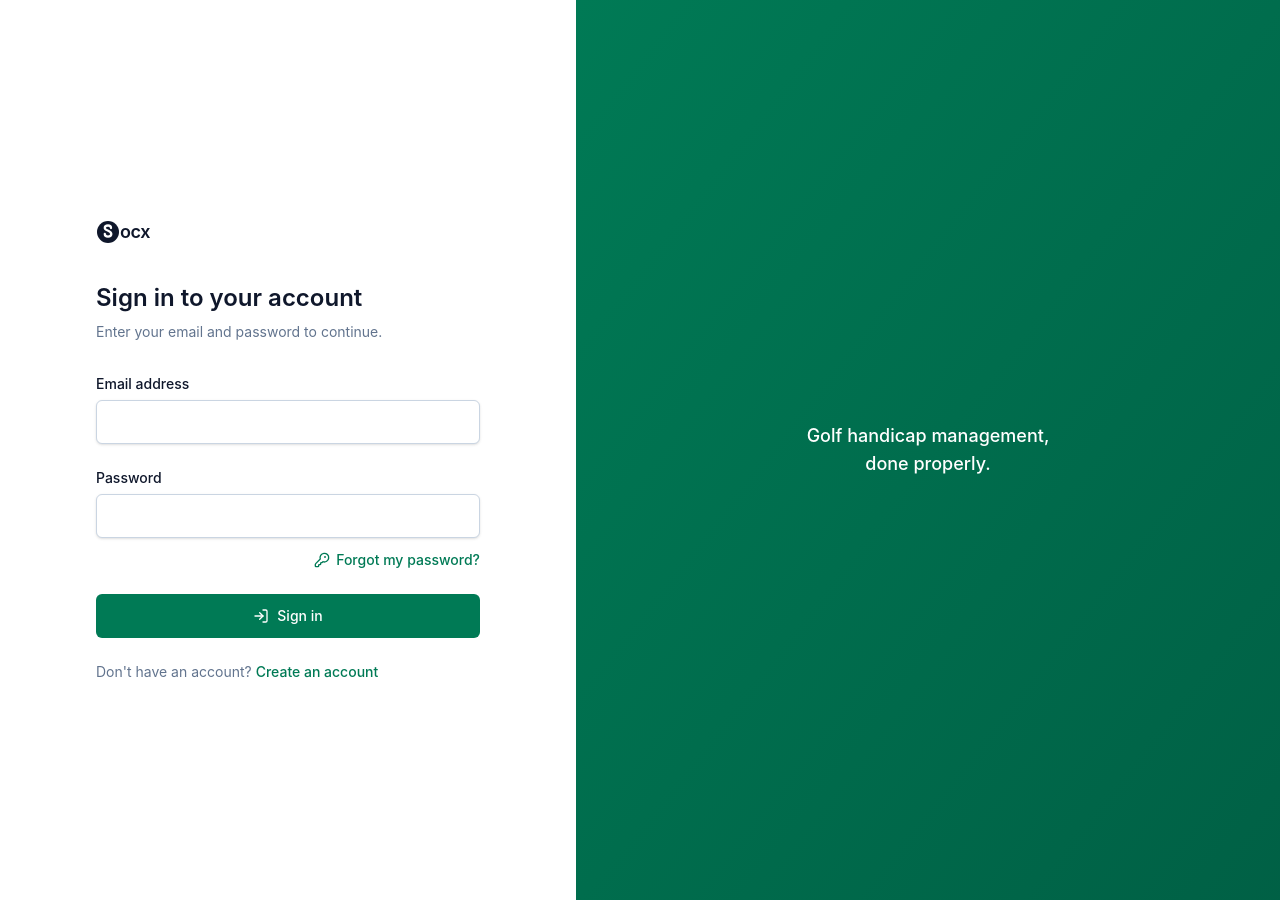
Test: LoginPage › shows a working Create an account link when self-registration is on (ghs#105)
The image size is (1280, 900).
Click the link "Create an account".
click(317, 672)  # box [256, 663, 378, 680]
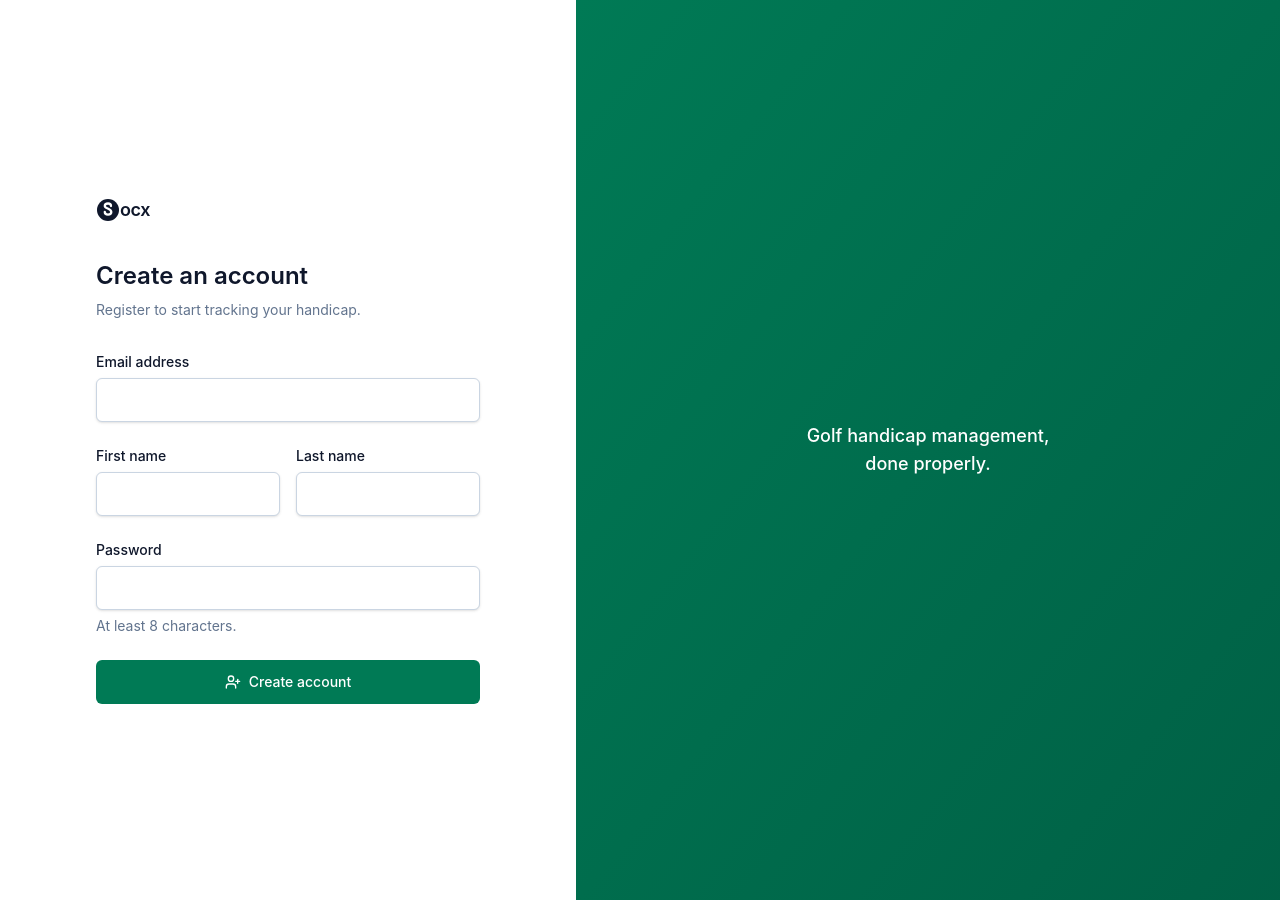
Now the heading "Create an account" is shown, box [96, 261, 308, 290]
